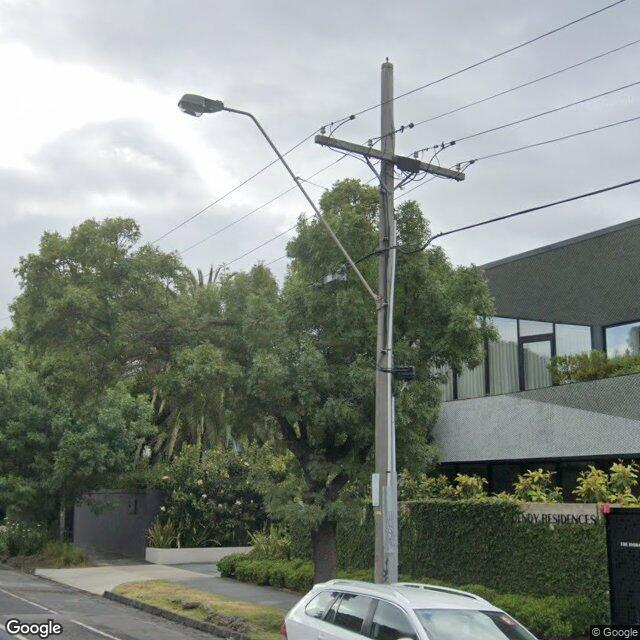crossarm: (314, 134, 465, 180)
streetlight: (177, 94, 380, 309)
timber-pole: (374, 62, 399, 584)
